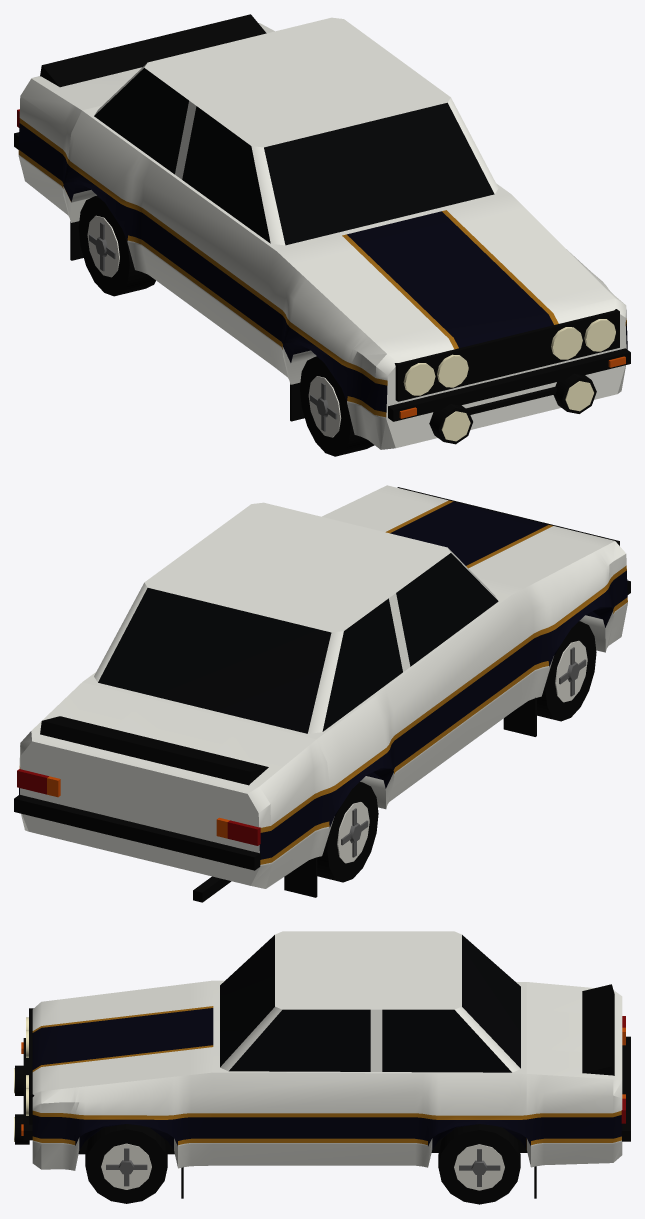
The model's file is escort-rs1800.glb.
3 renders of one model, top to bottom at view 1: azimuth 30°, elevation 25°; view 2: azimuth 150°, elevation 25°; view 3: azimuth 270°, elevation 25°, orthographic. The views are drawn at different scales.
Visible parts, largest first — view 1: body, cabin, cabin-body, body-navy, grille, lip-spoiler, body-gold, bumper-front, wheel-back-right, wheel-front-right, rim-front-right, rim-back-right (+9 smaller); view 2: body, cabin, cabin-body, body-navy, lip-spoiler, bumper-rear, body-gold, wheel-back-right, wheel-front-right, rim-front-right, rim-back-right, mudflap-r-right (+3 smaller); view 3: body, cabin, body-navy, cabin-body, body-gold, wheel-back-left, wheel-front-left, lip-spoiler, rim-back-left, rim-front-left, bumper-rear, bumper-front (+1 smaller).
Boxes of the visible parts, x1,y1,x2,y2 form: body: (18, 23, 626, 449); cabin: (94, 68, 494, 245); cabin-body: (94, 17, 498, 245); body-navy: (18, 123, 627, 412); grille: (394, 309, 619, 401); lip-spoiler: (40, 14, 266, 87); body-gold: (18, 118, 626, 417); bumper-front: (388, 348, 630, 421); wheel-back-right: (78, 195, 155, 296); wheel-front-right: (299, 356, 374, 456); rim-front-right: (308, 376, 341, 437); rim-back-right: (87, 215, 119, 277); body: (19, 485, 627, 888); cabin: (98, 553, 498, 733); cabin-body: (94, 502, 497, 733); body-navy: (19, 501, 627, 859); lip-spoiler: (40, 716, 268, 785); bumper-rear: (14, 794, 260, 870); body-gold: (19, 500, 627, 864); wheel-back-right: (317, 782, 378, 882); wheel-front-right: (537, 621, 596, 721); rim-front-right: (555, 640, 587, 702); rim-back-right: (337, 802, 369, 863); mudflap-r-right: (284, 857, 317, 897); body: (32, 980, 622, 1170); cabin: (220, 935, 520, 1072); body-navy: (32, 1008, 622, 1149); cabin-body: (220, 931, 520, 1072); body-gold: (32, 1006, 621, 1149); wheel-back-left: (438, 1124, 520, 1204); wheel-front-left: (85, 1124, 167, 1203); lip-spoiler: (582, 984, 614, 1075); rim-back-left: (454, 1144, 504, 1190); rim-front-left: (101, 1143, 151, 1189); bumper-rear: (621, 1036, 630, 1141); bumper-front: (23, 1038, 32, 1140).
Size of the model in its own units: 1.74 by 1.39 by 4.2.
